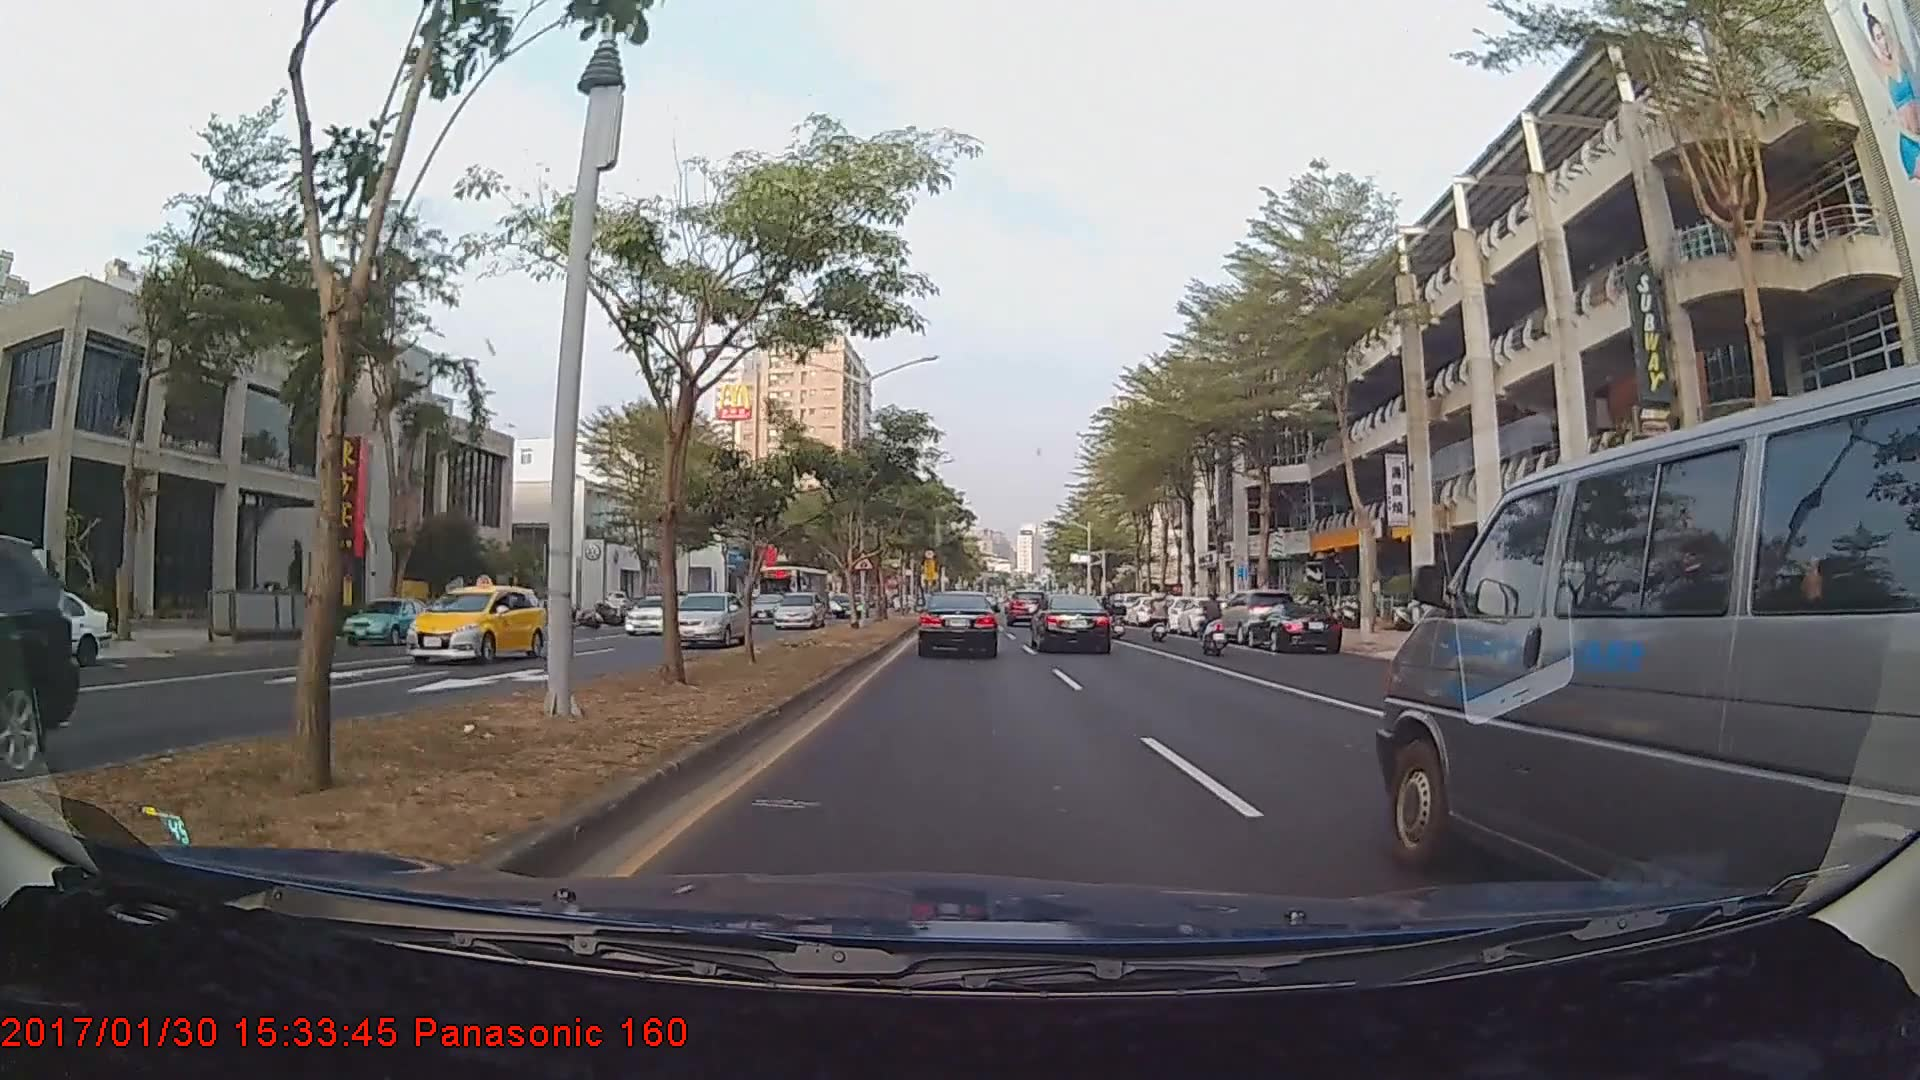rider: (1194, 591, 1238, 661), (1145, 588, 1175, 646), (1109, 590, 1130, 640)
vehicle: (1378, 398, 1908, 911), (402, 580, 548, 667), (917, 589, 1000, 660), (1030, 593, 1112, 654), (754, 565, 832, 625), (1247, 603, 1342, 652), (1217, 589, 1298, 646), (340, 596, 434, 644), (669, 592, 748, 647), (624, 593, 693, 636), (1176, 596, 1240, 636), (772, 590, 824, 630), (1006, 591, 1047, 628), (830, 592, 865, 618)
